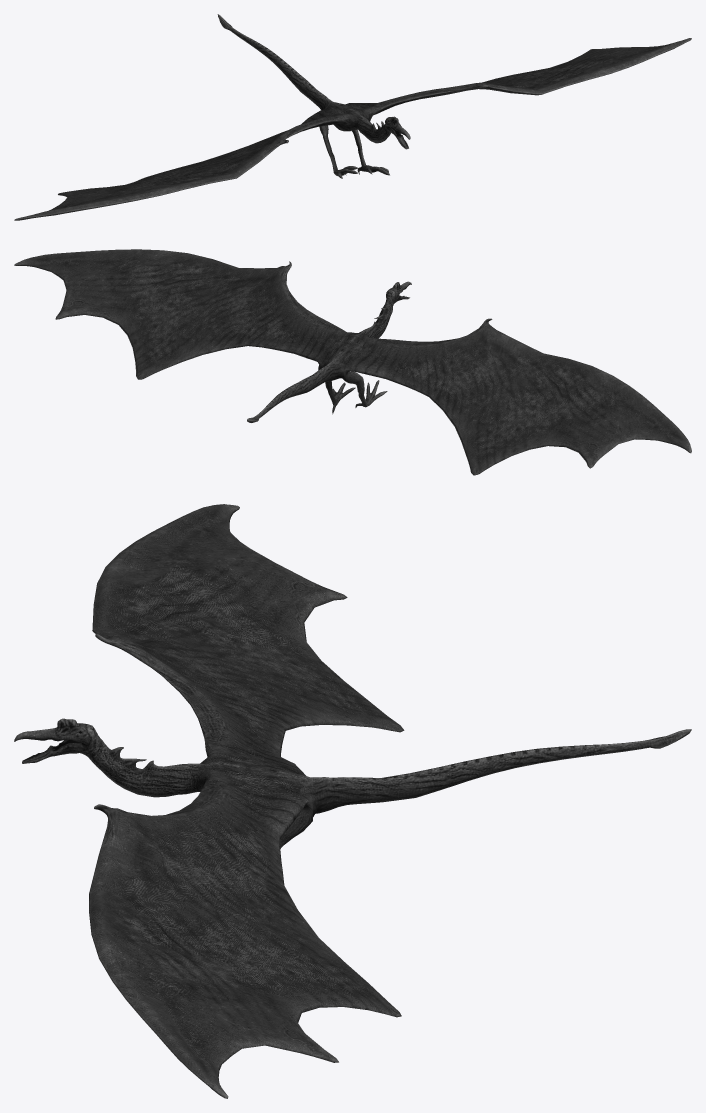
The model's file is Fellbeast_Animate_Grab_Glide_22.obj.
3 renders of one model, top to bottom at view 1: azimuth 30°, elevation 25°; view 2: azimuth 150°, elevation 25°; view 3: azimuth 270°, elevation 25°, orthographic. The views are drawn at different scales.
Parts seen in each view (by area): view 1: Fellbeast; view 2: Fellbeast; view 3: Fellbeast.
Part boxes in pixels (<box>): Fellbeast: <box>14,14,691,220</box>; Fellbeast: <box>14,249,691,475</box>; Fellbeast: <box>14,504,691,1098</box>.
Size of the model in its own units: 9.52 by 1.35 by 4.34.
